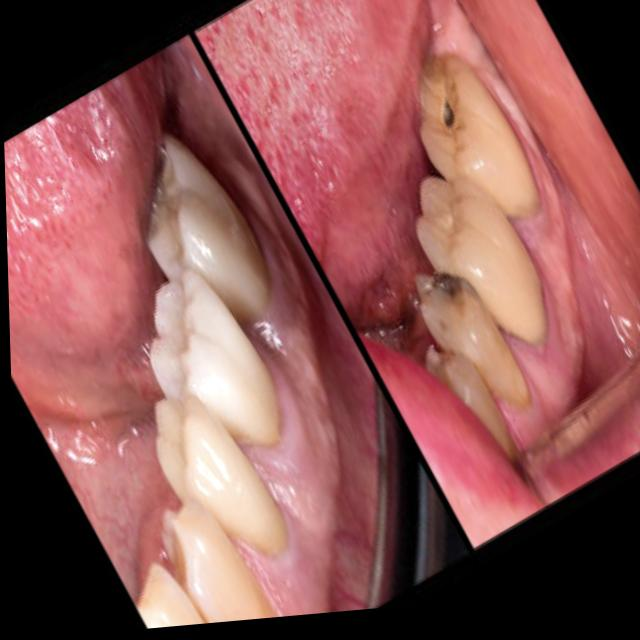gingivitis: (498, 234, 640, 455), (242, 292, 341, 606)
